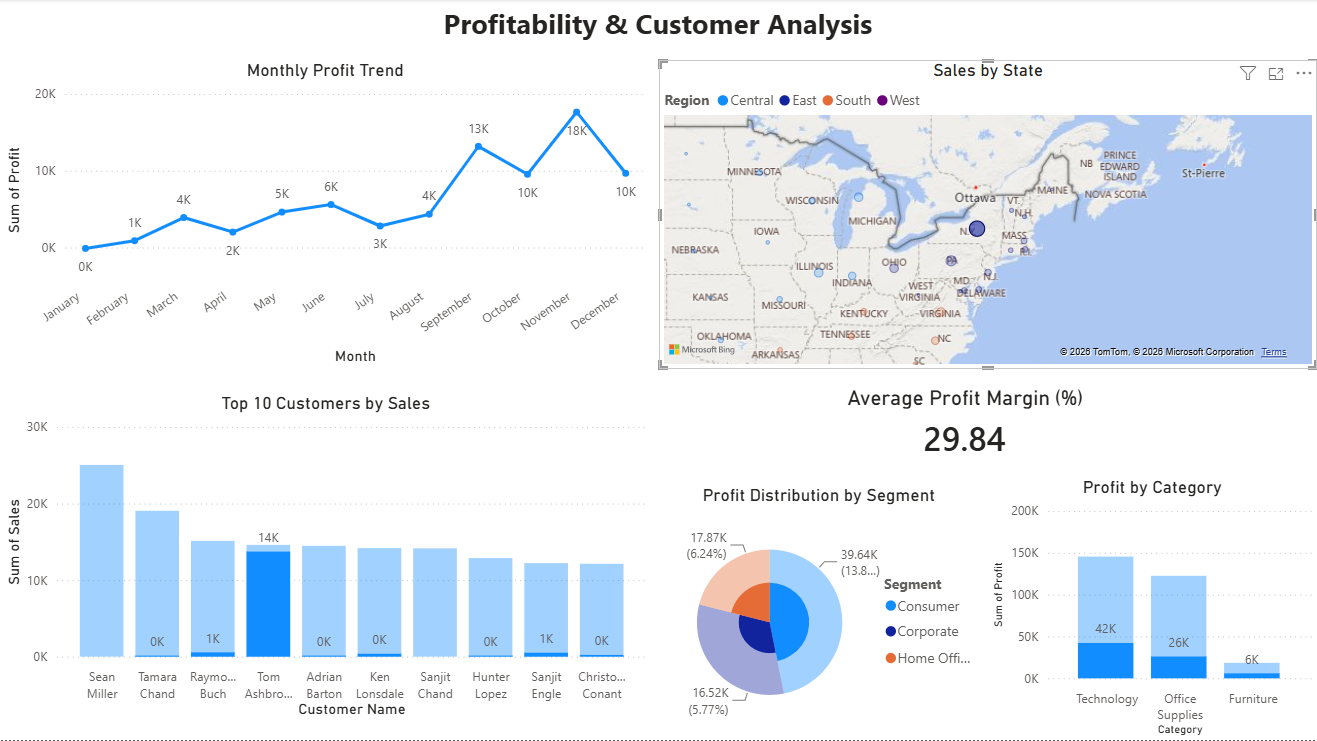

This screenshot's page, from the dashboard's own definition file:
{"tool":"powerbi","page":{"name":"Profitability & Customer Analysis","canvas":[1280,720],"ordinal":1},"visuals":[{"type":"textbox","box":[57.4,0,1164.3,47.7],"z":0},{"type":"cardVisual","title":"Average Profit Margin (%)","fields":{"Data":["Avg(public sales.Profit Margin)"]},"box":[816.4,375.2,243,89.5],"z":1000},{"type":"lineChart","title":"Monthly Profit Trend","fields":{"Category":["public sales.Order Date.Variation.Date Hierarchy.Year","public sales.Order Date.Variation.Date Hierarchy.Month"],"Y":["Sum(public sales.Profit)"]},"box":[0,59.3,632.2,300.5],"z":2000},{"type":"clusteredColumnChart","title":"Profit by Category","fields":{"Y":["Sum(public sales.Profit)"],"Category":["public sales.Category"]},"box":[960.2,464.6,319.8,255.6],"z":3000},{"type":"columnChart","title":"Top 10 Customers by Sales","fields":{"Category":["public sales.Customer Name"],"Y":["Sum(public sales.Sales)"]},"box":[0,383.3,633.4,320.3],"z":4000},{"type":"pieChart","title":"Profit Distribution by Segment","fields":{"Category":["public sales.Segment"],"Y":["Sum(public sales.Profit)"]},"box":[631.7,472.3,328.5,247.8],"z":5000},{"type":"map","title":"Sales by State","fields":{"Category":["public sales.State"],"Size":["Sum(public sales.Sales)"],"Series":["public sales.Region"]},"box":[640,59.3,640,300.5],"z":6000}]}

Visuals, with their boxes in screenshot pixels (x1, y1, x2, y2), scaled from the page's 1280x720 canvas onto the 1317x741 screenshot:
textbox: (59,0,1257,49)
"Average Profit Margin (%)" cardVisual: (840,386,1090,478)
"Monthly Profit Trend" lineChart: (0,61,650,370)
"Profit by Category" clusteredColumnChart: (988,478,1316,740)
"Top 10 Customers by Sales" columnChart: (0,394,652,724)
"Profit Distribution by Segment" pieChart: (650,486,988,740)
"Sales by State" map: (658,61,1316,370)
